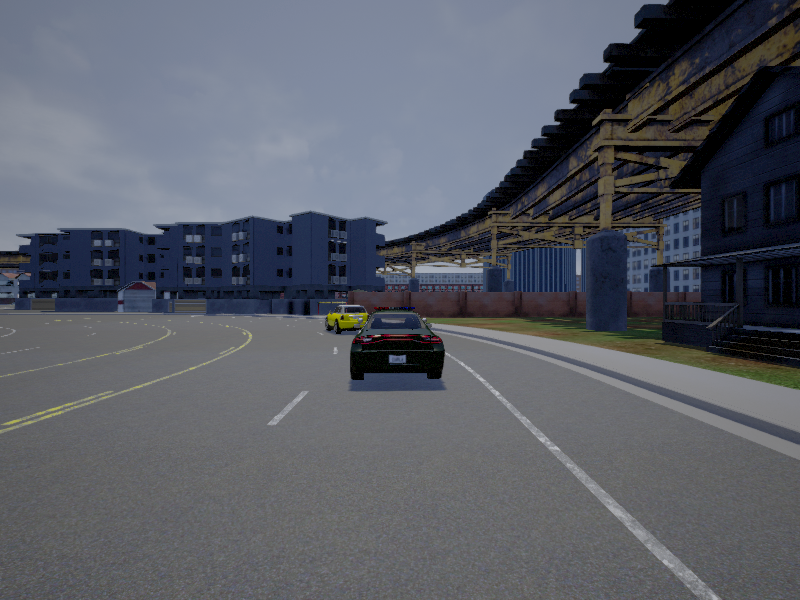Benign: (351, 306, 446, 382), (324, 303, 372, 334)
